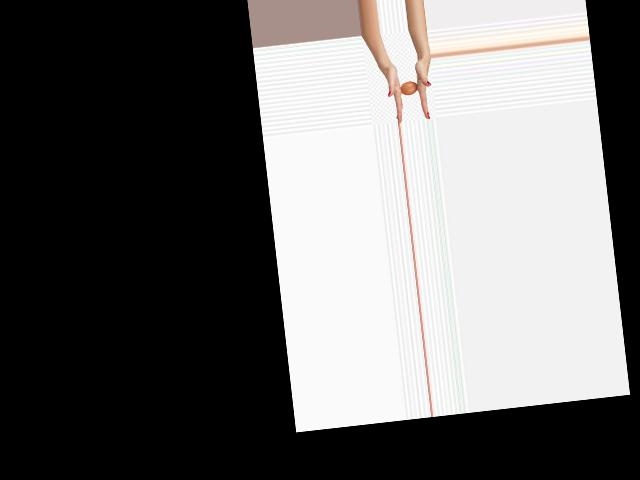egg: (399, 80, 417, 95)
